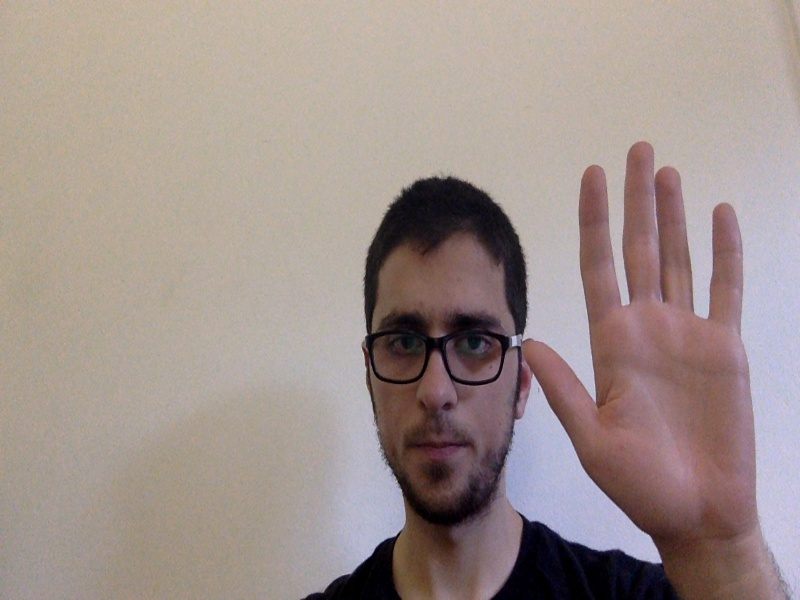5-hand: (524, 140, 757, 538)
